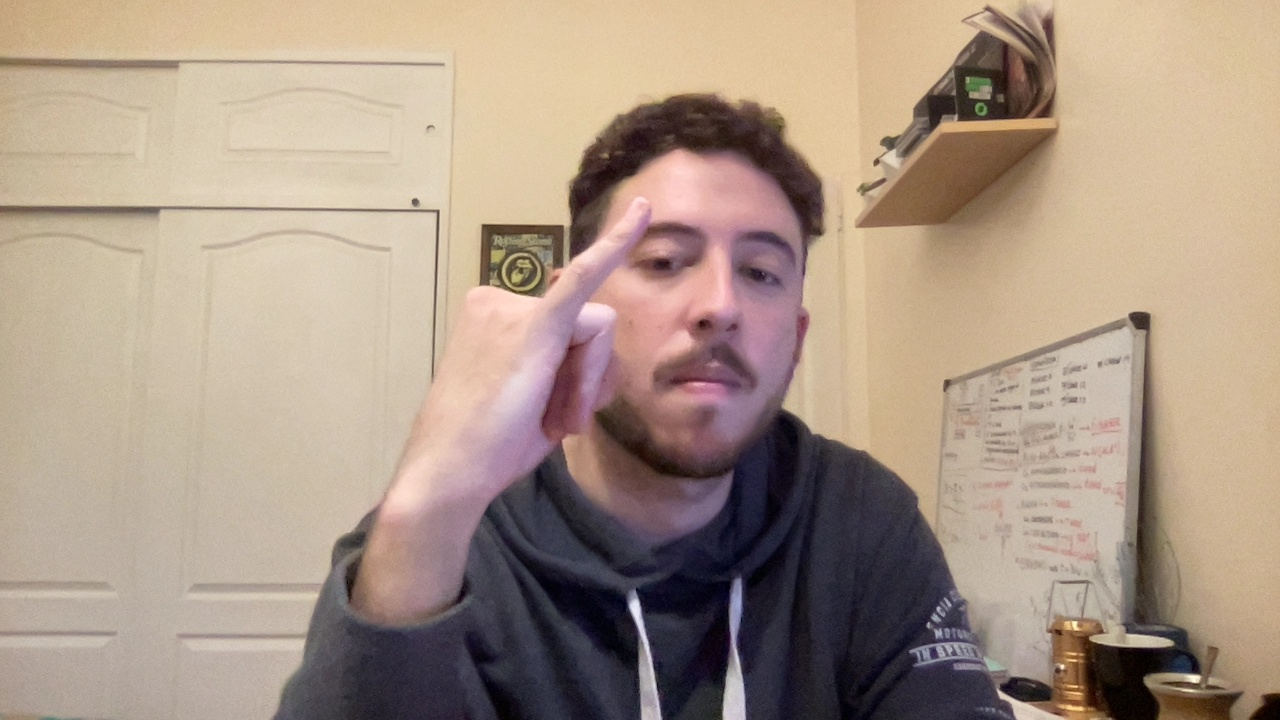menique: (363, 183, 682, 530)
